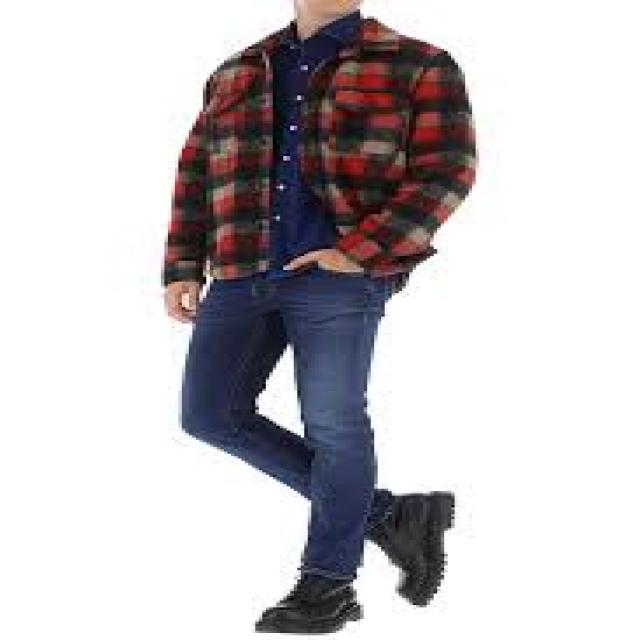plaid: (166, 25, 483, 283)
